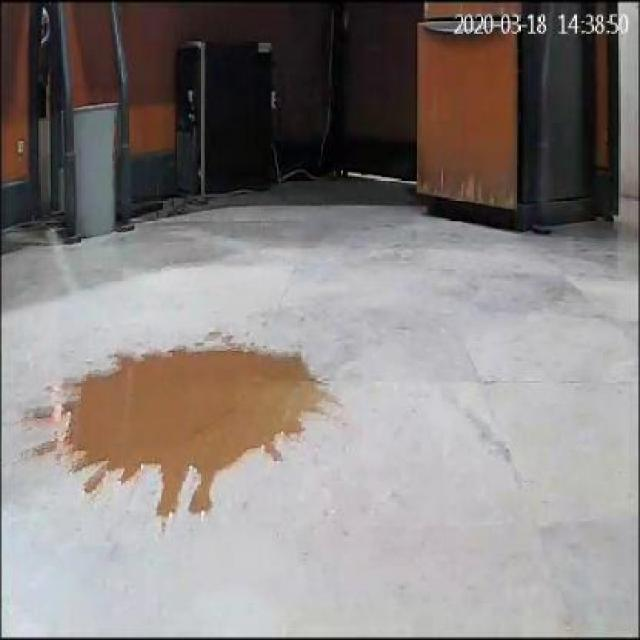spill: (18, 346, 324, 531)
